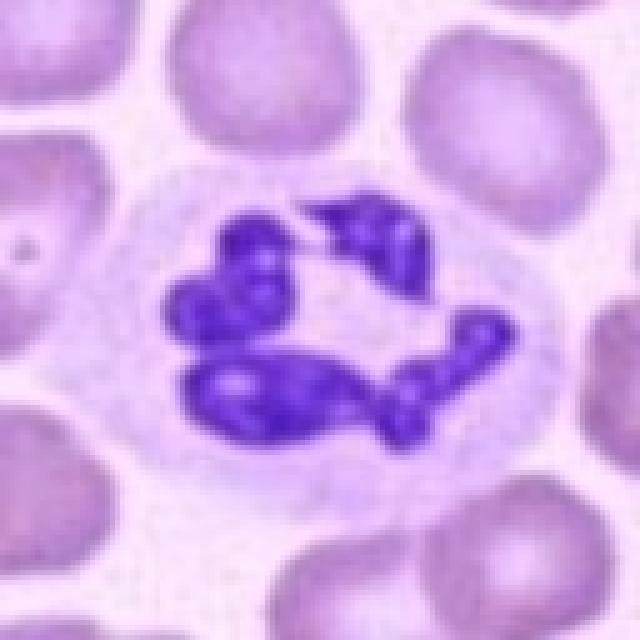neutro: (83, 126, 564, 498)
